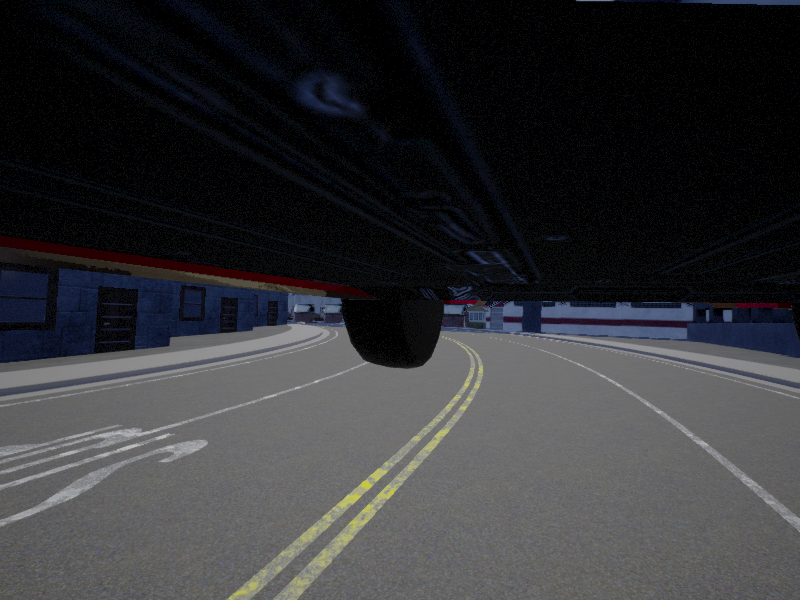Attacker: (1, 3, 800, 369)
